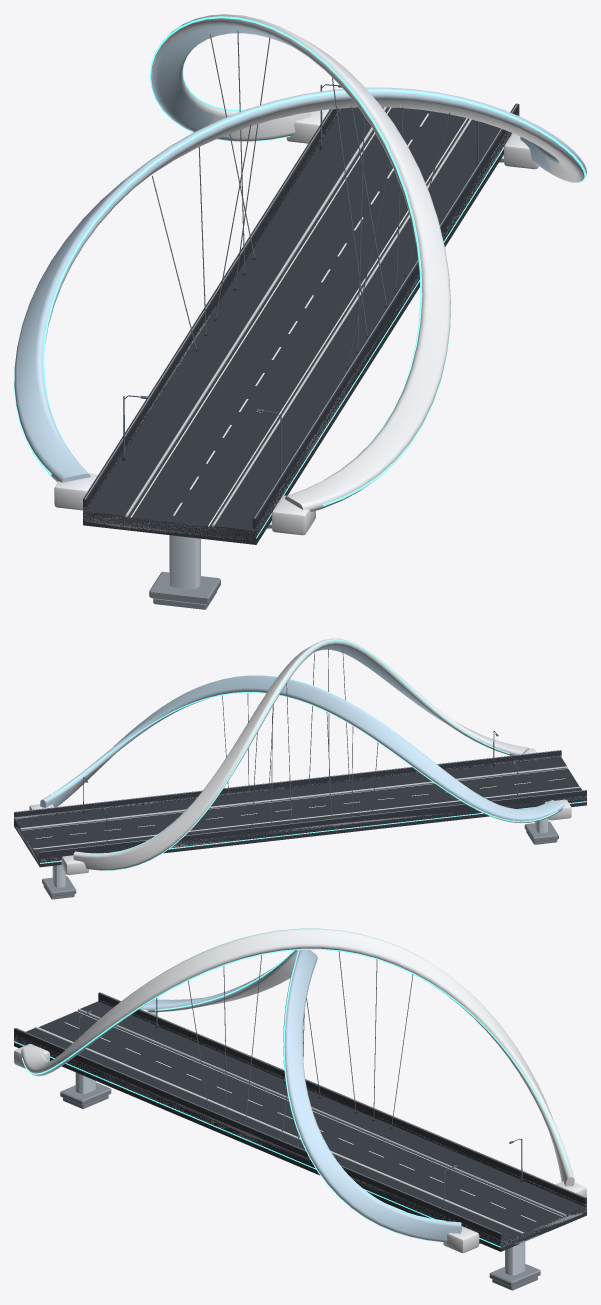
File: ponte_diagonal_arco.glb
3 renders of one model, top to bottom at view 1: azimuth 30°, elevation 25°; view 2: azimuth 150°, elevation 25°; view 3: azimuth 270°, elevation 25°, orthographic. The views are drawn at different scales.
Parts seen in each view (by area): view 1: colisao_tabuleiro, ponte_diagonal_arco; view 2: colisao_tabuleiro, ponte_diagonal_arco; view 3: colisao_tabuleiro, ponte_diagonal_arco.
Boxes of the visible parts, <box> form: colisao_tabuleiro: <box>83,103,519,544</box>; ponte_diagonal_arco: <box>14,14,586,609</box>; colisao_tabuleiro: <box>14,750,586,867</box>; ponte_diagonal_arco: <box>14,638,586,899</box>; colisao_tabuleiro: <box>14,992,586,1251</box>; ponte_diagonal_arco: <box>14,928,586,1290</box>.
Size of the model in its own units: 70.64 by 35.24 by 70.64.
3 materials, 1 textured.
